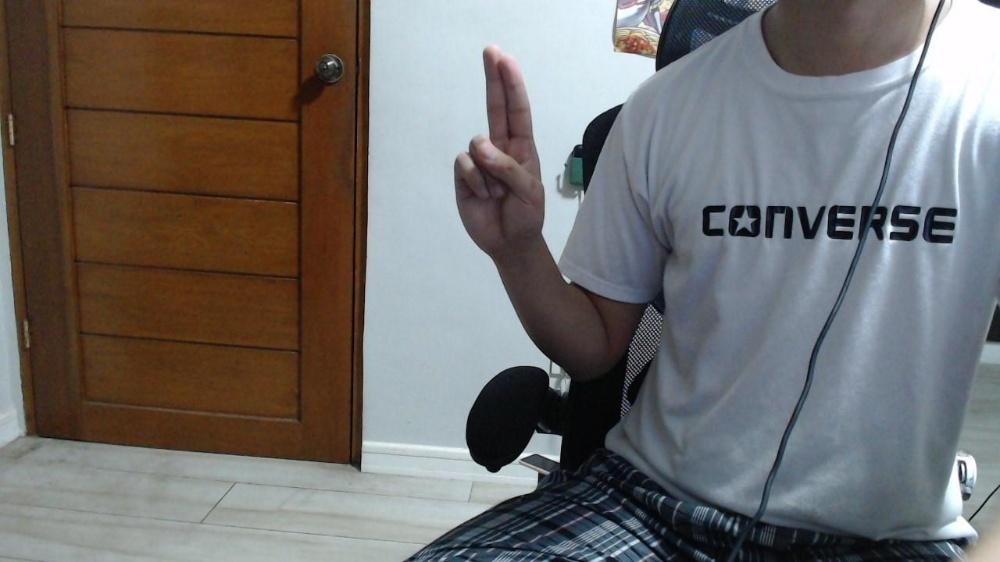u: (454, 44, 545, 249)
